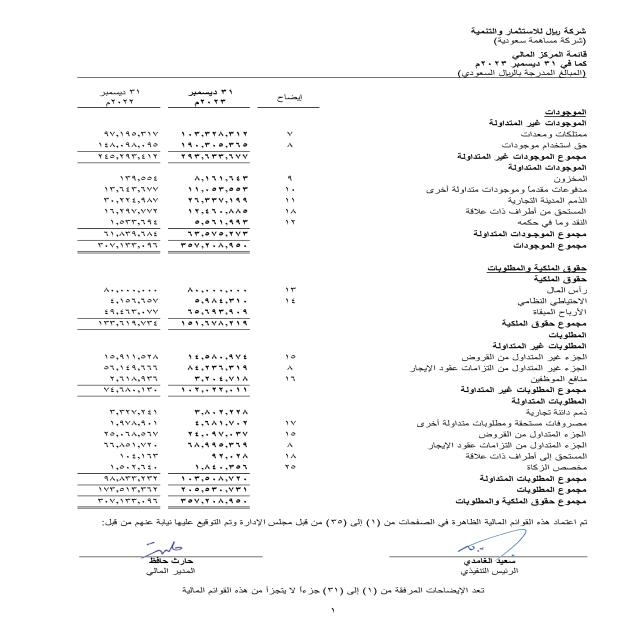financial_sheets: (507, 49, 591, 59)
table: (48, 87, 314, 519)
